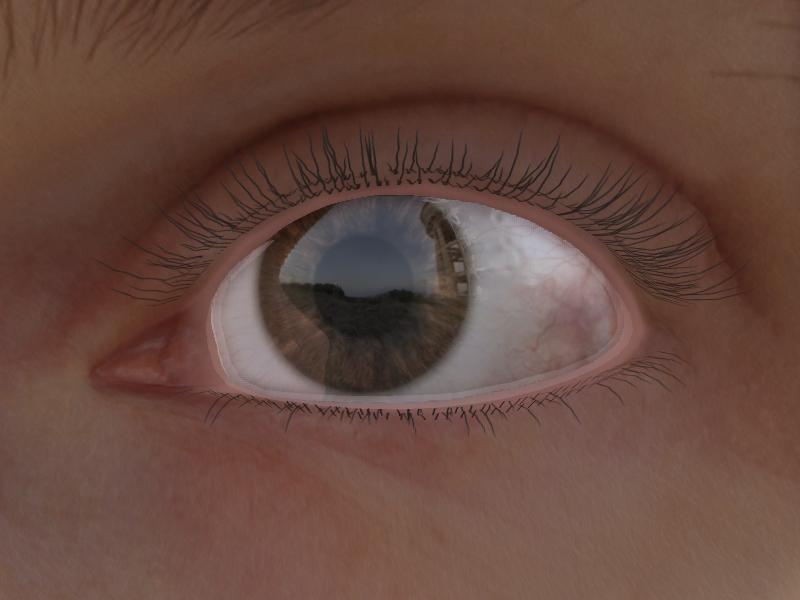eye: (261, 195, 473, 395)
